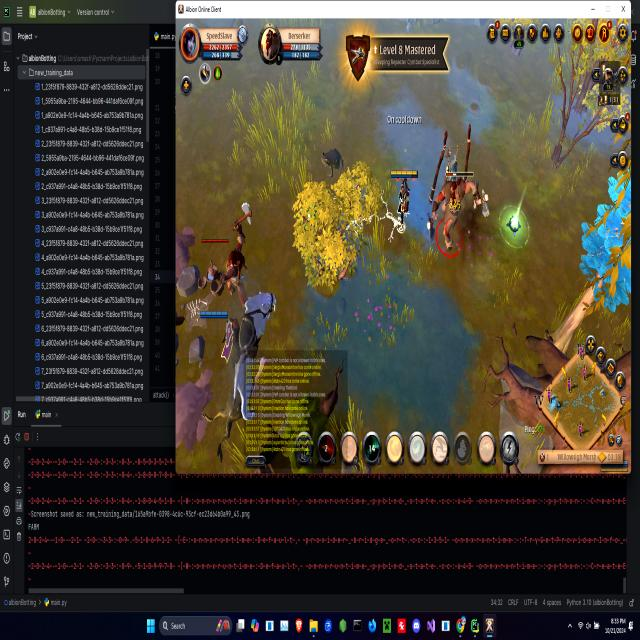ore: (422, 170, 492, 260), (204, 202, 253, 315), (318, 140, 351, 183)
red: (388, 165, 422, 233), (197, 306, 241, 354)
wisp caged: (545, 164, 630, 366)
